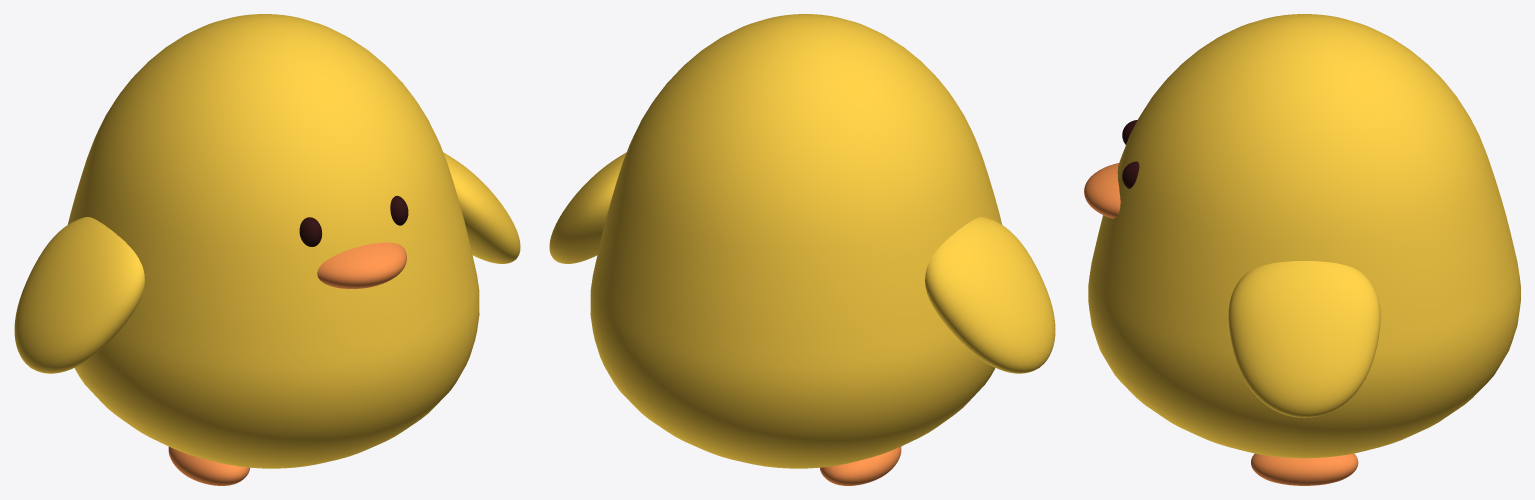
File: 병아리.fbx
The picture shows the model from 3 angles, left to right: view 1: azimuth 30°, elevation 25°; view 2: azimuth 150°, elevation 25°; view 3: azimuth 270°, elevation 25°; orthographic projection.
Visible parts, largest first — view 1: Sphere, Sphere.001, Sphere.004, Sphere.003, Sphere.002; view 2: Sphere, Sphere.001, Sphere.003; view 3: Sphere, Sphere.001, Sphere.003, Sphere.004, Sphere.002.
Part boxes in pixels (x1,y1,x2,y2): Sphere: (67, 14, 479, 468); Sphere.001: (14, 152, 520, 373); Sphere.004: (317, 242, 406, 288); Sphere.003: (168, 446, 249, 485); Sphere.002: (299, 195, 408, 246); Sphere: (590, 14, 1002, 468); Sphere.001: (549, 152, 1055, 373); Sphere.003: (820, 446, 901, 485); Sphere: (1088, 14, 1520, 458); Sphere.001: (1228, 261, 1380, 417); Sphere.003: (1251, 453, 1358, 485); Sphere.004: (1084, 163, 1120, 218); Sphere.002: (1122, 120, 1139, 188).
Bounding box in the file's own units: 93.71 × 79.44 × 74.62.
